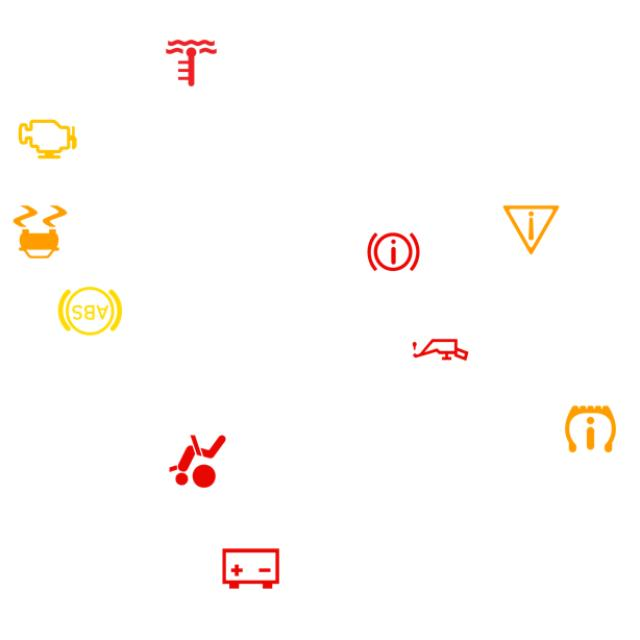Anti Lock Braking System: (55, 276, 125, 346)
Braking System Issue: (358, 216, 428, 286)
Charging System Issue: (216, 534, 286, 604)
Check Engine: (12, 104, 82, 174)
Electronic Stability Problem -ESP-: (5, 197, 75, 267)
Engine Overheating Warning Light: (156, 28, 226, 98)
Low Engine Oil Warning Light: (406, 314, 476, 384)
Low Tire Pressure Warning Light: (556, 394, 626, 464)
Master warning light: (496, 195, 566, 265)
SRS-Airbag: (162, 426, 232, 496)
